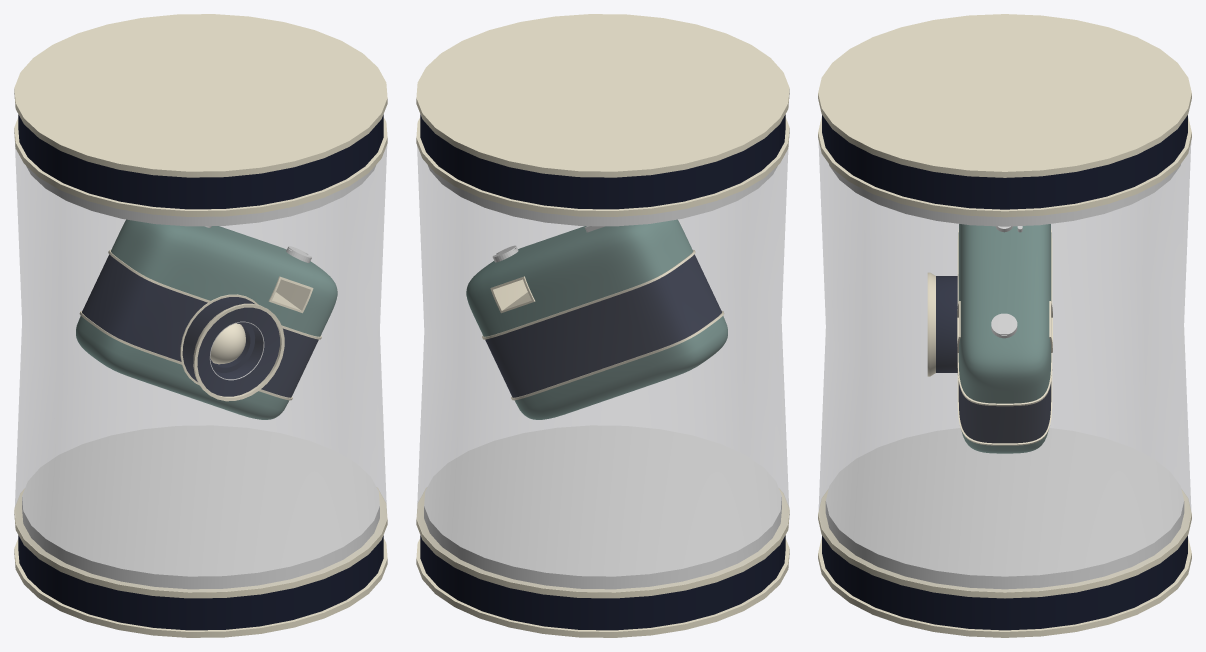
The model's file is asset.glb.
The picture shows the model from 3 angles, left to right: view 1: azimuth 30°, elevation 25°; view 2: azimuth 150°, elevation 25°; view 3: azimuth 270°, elevation 25°; orthographic projection.
Visible parts, largest first — view 1: ディスプレイ_カバー, ディスプレイ_ベース_装飾_外, ディスプレイ_ベース_装飾_鏡面, カメラ本体, ディスプレイ_ベース.001, ディスプレイ_ベース, レンズ_本体, ディスプレイ_ベース_装飾_上, ディスプレイ_ベース_装飾_下, ディスプレイ_ベース_装飾_内, ディスプレイ_ベース_装飾_鏡面.001, レンズ_内部球体; view 2: ディスプレイ_カバー, ディスプレイ_ベース_装飾_外, ディスプレイ_ベース_装飾_鏡面, カメラ本体, ディスプレイ_ベース.001, ディスプレイ_ベース, ディスプレイ_ベース_装飾_上, ディスプレイ_ベース_装飾_下, ディスプレイ_ベース_装飾_内, ディスプレイ_ベース_装飾_鏡面.001; view 3: ディスプレイ_カバー, ディスプレイ_ベース_装飾_外, ディスプレイ_ベース_装飾_鏡面, カメラ本体, ディスプレイ_ベース.001, ディスプレイ_ベース, ディスプレイ_ベース_装飾_上, ディスプレイ_ベース_装飾_内, ディスプレイ_ベース_装飾_下, ディスプレイ_ベース_装飾_鏡面.001, レンズ_本体.
Boxes of the visible parts, <box> form: ディスプレイ_カバー: <box>15,146,386,591</box>; ディスプレイ_ベース_装飾_外: <box>14,14,387,177</box>; ディスプレイ_ベース_装飾_鏡面: <box>22,425,379,589</box>; カメラ本体: <box>76,219,337,419</box>; ディスプレイ_ベース.001: <box>18,535,383,630</box>; ディスプレイ_ベース: <box>18,114,383,209</box>; レンズ_本体: <box>182,297,284,401</box>; ディスプレイ_ベース_装飾_上: <box>14,487,387,598</box>; ディスプレイ_ベース_装飾_下: <box>14,538,387,637</box>; ディスプレイ_ベース_装飾_内: <box>14,117,387,216</box>; ディスプレイ_ベース_装飾_鏡面.001: <box>26,164,376,226</box>; レンズ_内部球体: <box>210,323,245,363</box>; ディスプレイ_カバー: <box>417,146,788,591</box>; ディスプレイ_ベース_装飾_外: <box>416,14,789,177</box>; ディスプレイ_ベース_装飾_鏡面: <box>424,425,781,589</box>; カメラ本体: <box>466,219,727,419</box>; ディスプレイ_ベース.001: <box>420,535,785,630</box>; ディスプレイ_ベース: <box>420,114,785,209</box>; ディスプレイ_ベース_装飾_上: <box>416,487,789,598</box>; ディスプレイ_ベース_装飾_下: <box>416,538,789,637</box>; ディスプレイ_ベース_装飾_内: <box>416,117,789,216</box>; ディスプレイ_ベース_装飾_鏡面.001: <box>427,164,777,226</box>; ディスプレイ_カバー: <box>818,144,1191,591</box>; ディスプレイ_ベース_装飾_外: <box>818,14,1191,177</box>; ディスプレイ_ベース_装飾_鏡面: <box>825,428,1184,589</box>; カメラ本体: <box>957,224,1052,453</box>; ディスプレイ_ベース.001: <box>822,536,1187,630</box>; ディスプレイ_ベース: <box>822,115,1187,209</box>; ディスプレイ_ベース_装飾_上: <box>818,489,1191,598</box>; ディスプレイ_ベース_装飾_内: <box>818,117,1191,217</box>; ディスプレイ_ベース_装飾_下: <box>818,538,1191,637</box>; ディスプレイ_ベース_装飾_鏡面.001: <box>829,164,1180,226</box>; レンズ_本体: <box>927,272,957,376</box>.
Size of what is drawn, in the model's own units: 4.75 by 6.54 by 4.75.
